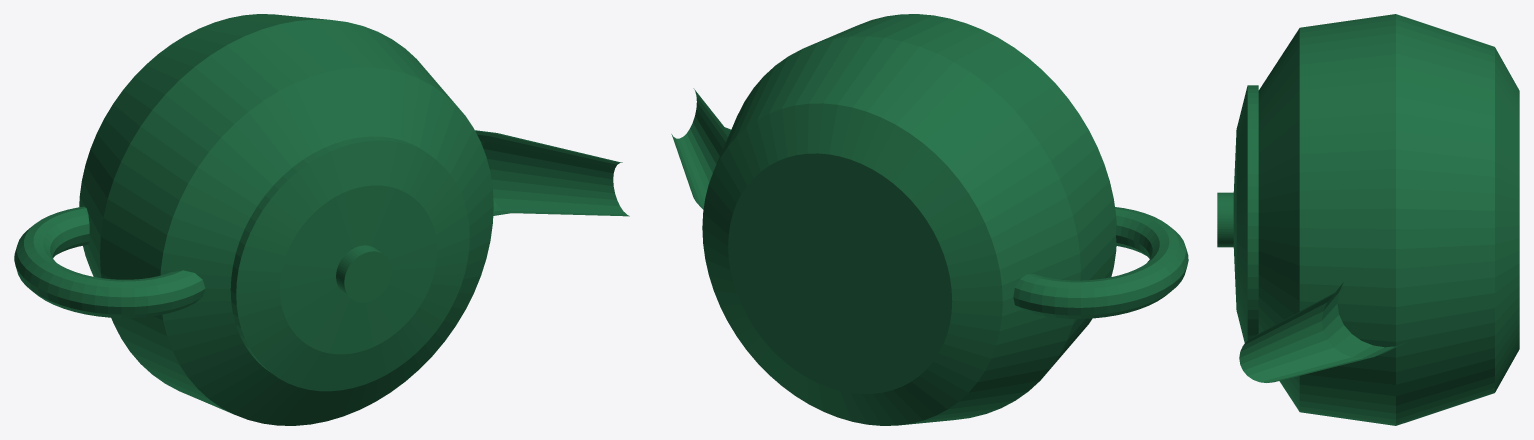
File: counter_teapot.glb
3 views of the same model, side by side, from view 1: azimuth 30°, elevation 25°; view 2: azimuth 150°, elevation 25°; view 3: azimuth 270°, elevation 25° (orthographic).
Visible parts, largest first — view 1: world; view 2: world; view 3: world.
Part boxes in pixels (left/top/right/bottom): world: left=14, top=14, right=629, bottom=425; world: left=671, top=14, right=1188, bottom=425; world: left=1217, top=14, right=1519, bottom=425.
Bounding box in the file's own units: 0.228 × 0.15 × 0.11.
Materials: 1 (1 with a texture image).
